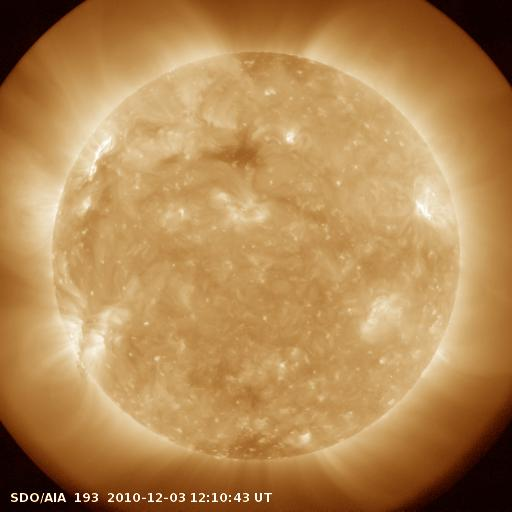coronal_hole: (214, 427, 309, 462), (205, 135, 263, 170)
